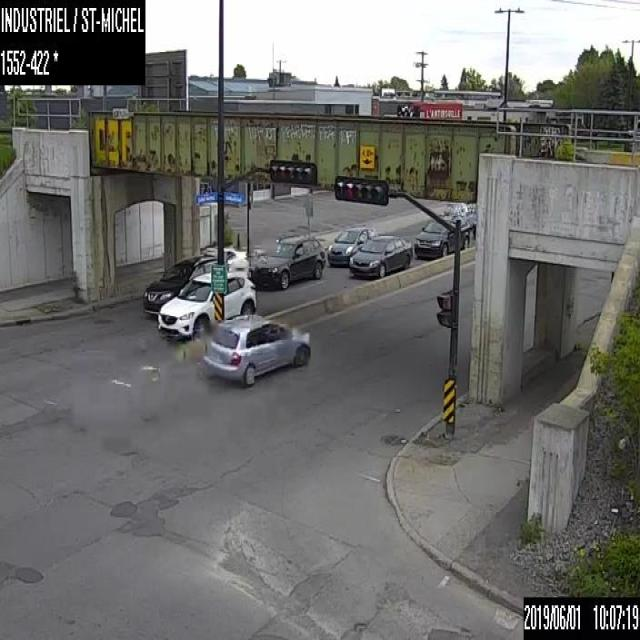vehicle: (203, 314, 310, 386), (157, 272, 256, 342), (141, 253, 216, 314), (252, 236, 325, 288), (348, 235, 412, 277), (413, 213, 469, 260), (327, 224, 377, 266)
